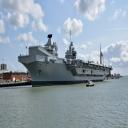Portanaves: (20, 31, 115, 89)
